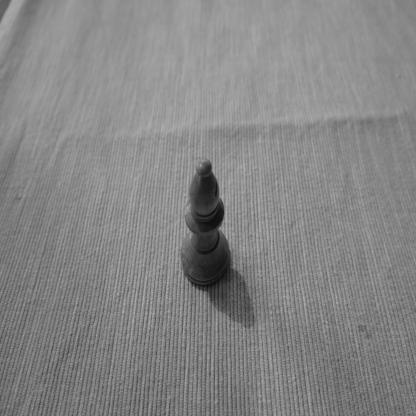white-bishop: (180, 157, 230, 290)
